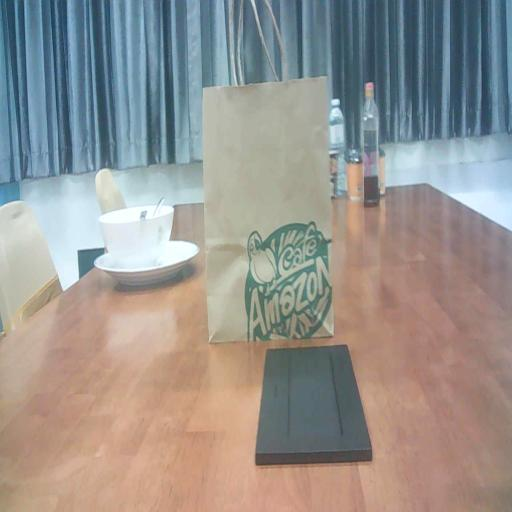bag: (197, 73, 338, 345)
